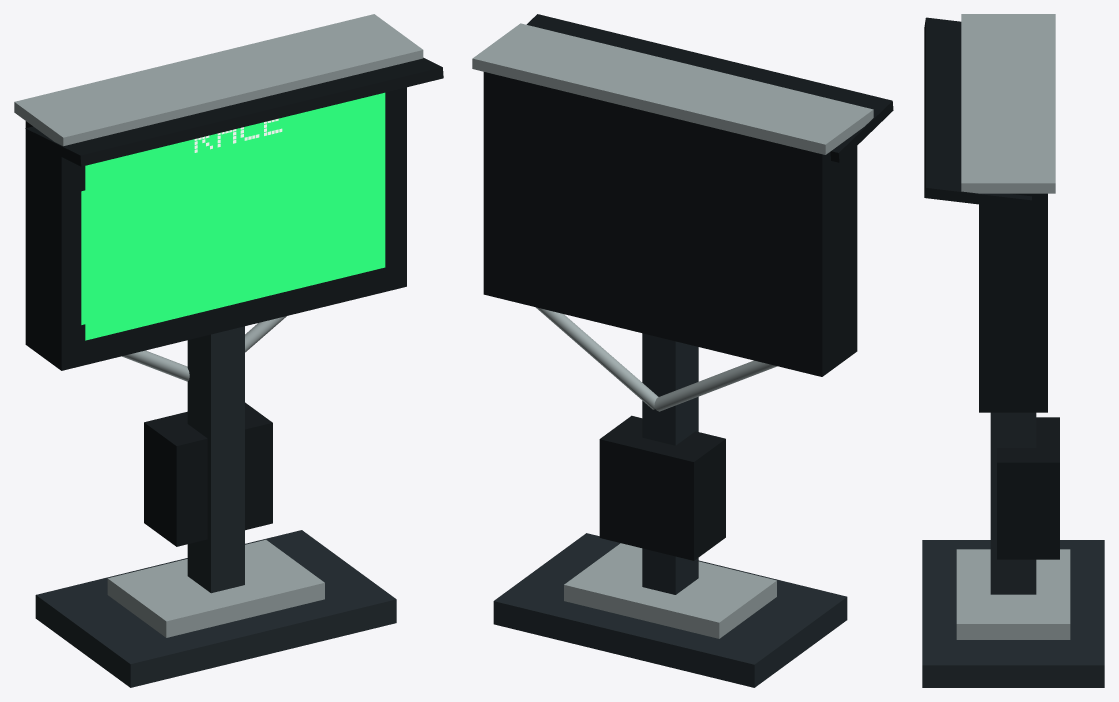
The model's file is race-marshal-panel-lod2.glb.
3 views of the same model, side by side, from view 1: azimuth 30°, elevation 25°; view 2: azimuth 150°, elevation 25°; view 3: azimuth 270°, elevation 25° (orthographic). The views are drawn at different scales.
Parts seen in each view (by area): view 1: housing__Moulded_carbon_housing, flag-display-led__Marshal_display_—_addressable, frame__Brushed_aluminium, frame__Powder-coated_graphite_frame, FlagPanel_Display; view 2: housing__Moulded_carbon_housing, frame__Brushed_aluminium, frame__Powder-coated_graphite_frame; view 3: housing__Moulded_carbon_housing, frame__Brushed_aluminium, frame__Powder-coated_graphite_frame.
Part boxes in pixels (box(x1,y1,x2,y2)): housing__Moulded_carbon_housing: box(25, 57, 443, 546); flag-display-led__Marshal_display_—_addressable: box(81, 119, 376, 324); frame__Brushed_aluminium: box(14, 14, 423, 637); frame__Powder-coated_graphite_frame: box(35, 326, 396, 687); FlagPanel_Display: box(85, 92, 385, 340); housing__Moulded_carbon_housing: box(483, 14, 893, 560); frame__Brushed_aluminium: box(472, 23, 873, 638); frame__Powder-coated_graphite_frame: box(493, 333, 847, 687); housing__Moulded_carbon_housing: box(924, 17, 1059, 559); frame__Brushed_aluminium: box(956, 14, 1070, 639); frame__Powder-coated_graphite_frame: box(922, 412, 1104, 687).
Bounding box in the file's own units: 3.2 × 4.61 × 1.45.
